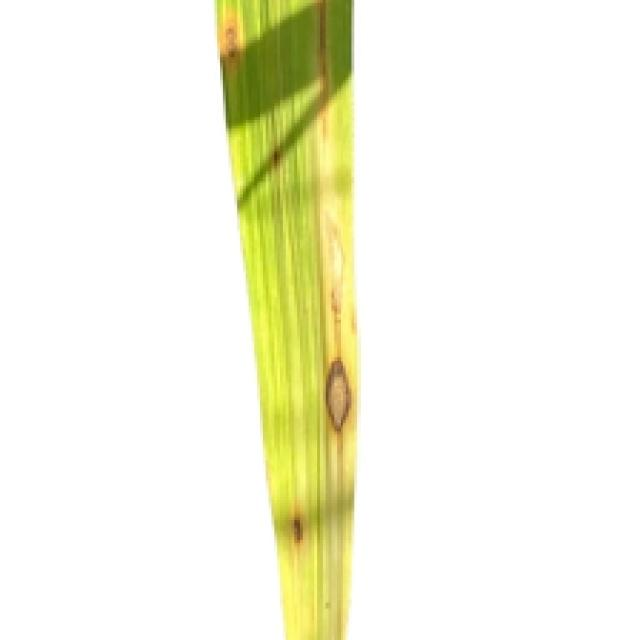Rice___Rice_Blast: (212, 0, 362, 637)
